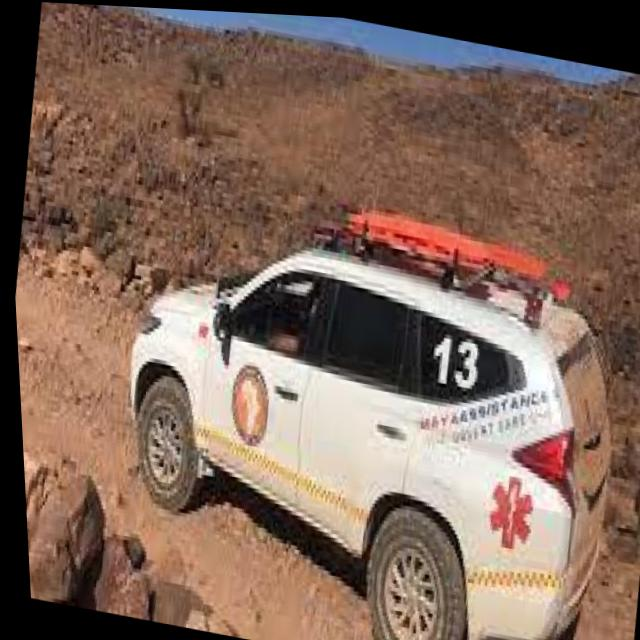ambulance: (75, 132, 640, 640)
